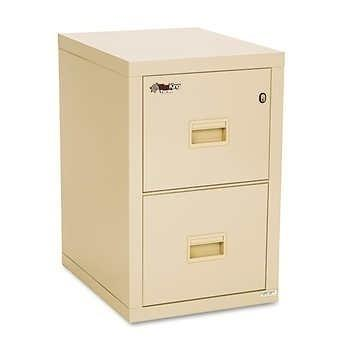cabinet_door: (144, 77, 271, 190), (144, 193, 267, 297)
handle: (189, 126, 228, 144)
